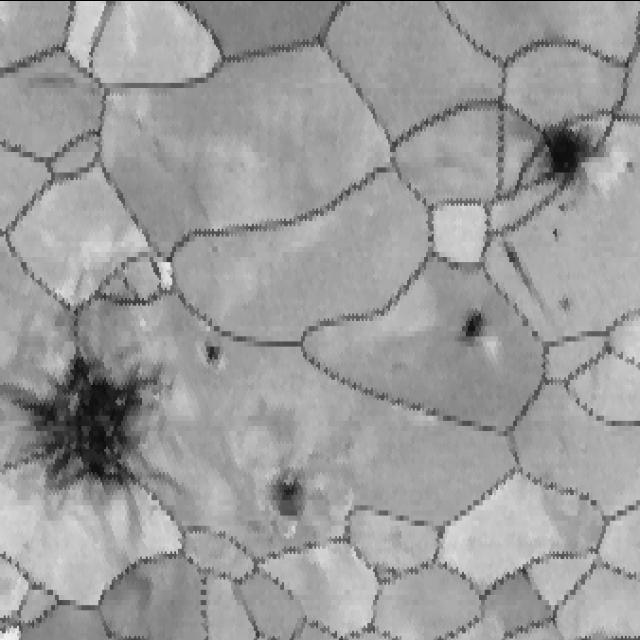good_void: (51, 314, 171, 511), (535, 113, 608, 199), (264, 451, 310, 538), (452, 303, 501, 357), (502, 238, 535, 293), (203, 336, 225, 373), (556, 290, 573, 315), (620, 159, 637, 179), (548, 224, 561, 243), (556, 199, 567, 211)
